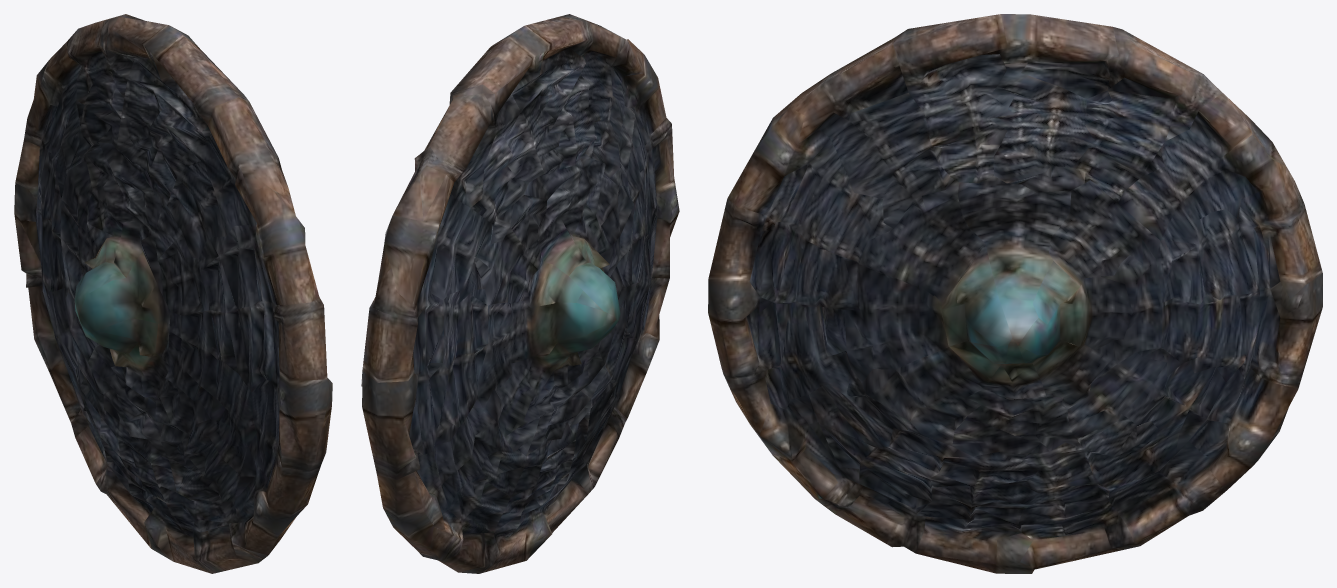
Rendered from shield.glb.
3 views of the same model, side by side, from view 1: azimuth 30°, elevation 25°; view 2: azimuth 150°, elevation 25°; view 3: azimuth 270°, elevation 25° (orthographic). The views are drawn at different scales.
Parts seen in each view (by area): view 1: tripo_node_28a52252-548b-4453-8c12-c783cd8a6c78; view 2: tripo_node_28a52252-548b-4453-8c12-c783cd8a6c78; view 3: tripo_node_28a52252-548b-4453-8c12-c783cd8a6c78.
Part boxes in pixels (x1,y1,x2,y2): tripo_node_28a52252-548b-4453-8c12-c783cd8a6c78: [14, 14, 332, 573]; tripo_node_28a52252-548b-4453-8c12-c783cd8a6c78: [361, 14, 679, 573]; tripo_node_28a52252-548b-4453-8c12-c783cd8a6c78: [708, 14, 1322, 573].
Bounding box in the file's own units: 0.3683 × 0.977 × 0.9769.
1 material, 1 textured.
